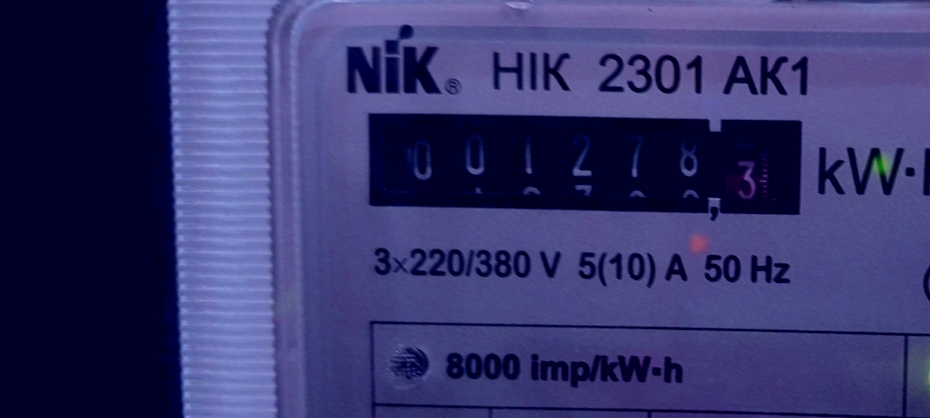0: (406, 132, 437, 182), (458, 128, 488, 177)
1: (516, 126, 539, 174)
2: (565, 129, 596, 178), (732, 128, 758, 149)
3: (730, 155, 760, 201)
7: (618, 129, 645, 178)
8: (674, 130, 702, 177)
screen: (344, 66, 824, 256)
